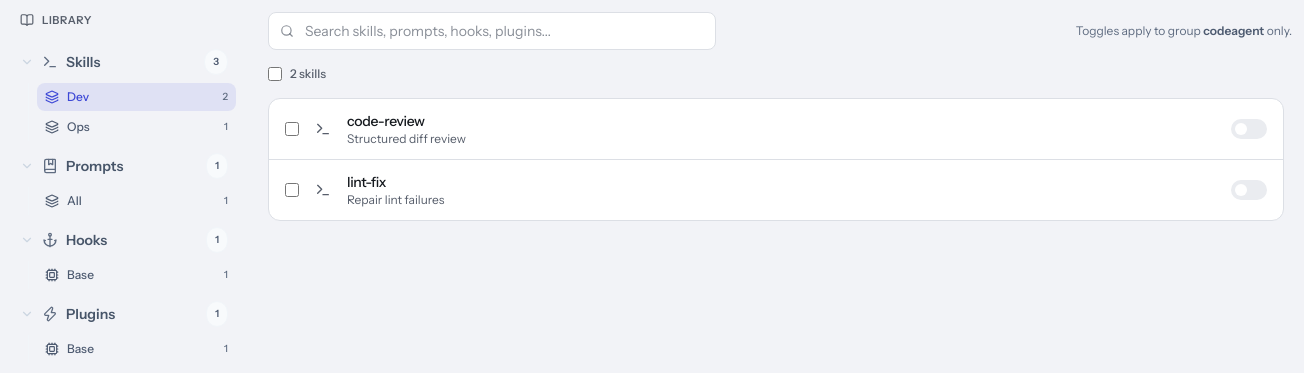
ResourceHub sidebar › collapsing a kind hides its categories
Click the button "Skills 3" at (124, 62), box [12,40,236,82]
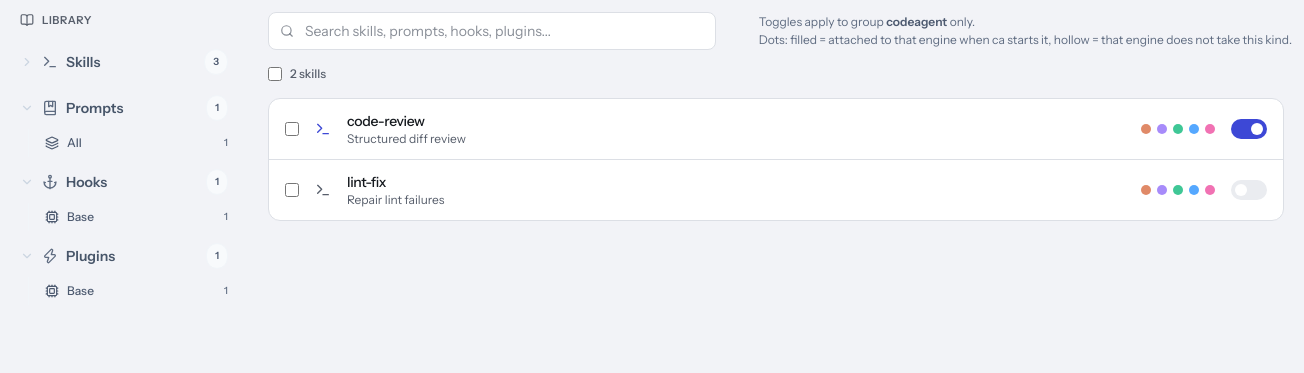
Now the button "dev" is gone
